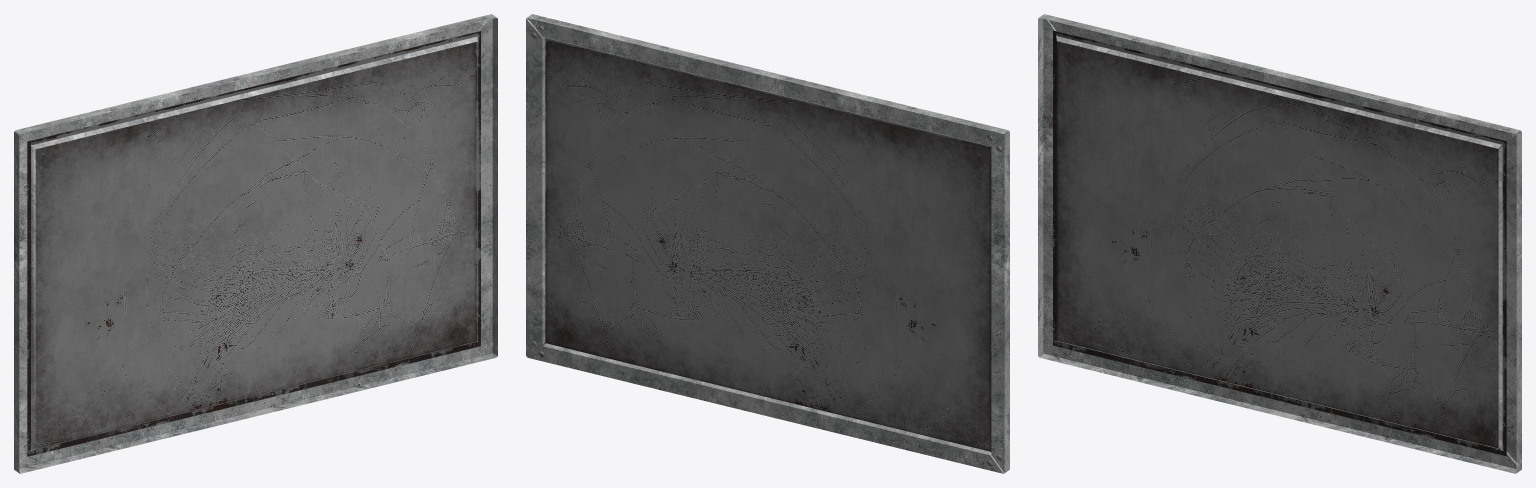
File: toilet_mirror.fbx
3 renders of one model, left to right at view 1: azimuth 30°, elevation 25°; view 2: azimuth 150°, elevation 25°; view 3: azimuth 330°, elevation 25°, orthographic.
Parts seen in each view (by area): view 1: mirror_toilet; view 2: mirror_toilet; view 3: mirror_toilet.
Part boxes in pixels (left/top/right/bottom): mirror_toilet: left=14, top=14, right=497, bottom=473; mirror_toilet: left=526, top=14, right=1009, bottom=473; mirror_toilet: left=1038, top=14, right=1521, bottom=473.
Size of the model in its own units: 75.06 by 50.92 by 1.52.
